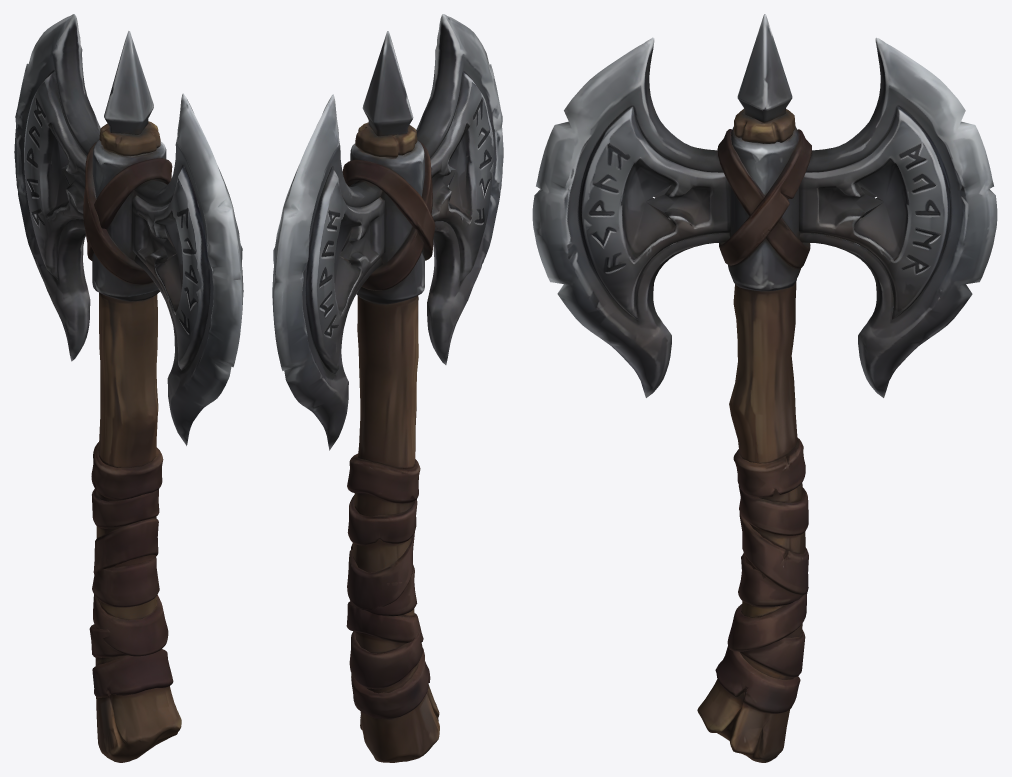
File: 13-axe.glb
3 renders of one model, left to right at view 1: azimuth 30°, elevation 25°; view 2: azimuth 150°, elevation 25°; view 3: azimuth 270°, elevation 25°, orthographic. The views are drawn at different scales.
Visible parts, largest first — view 1: tripo_node_116cdaeb-2088-4908-9fca-0354da7f3242; view 2: tripo_node_116cdaeb-2088-4908-9fca-0354da7f3242; view 3: tripo_node_116cdaeb-2088-4908-9fca-0354da7f3242.
Boxes of the visible parts, box(x1,y1,x2,y2) form: tripo_node_116cdaeb-2088-4908-9fca-0354da7f3242: box(14, 14, 243, 762); tripo_node_116cdaeb-2088-4908-9fca-0354da7f3242: box(272, 14, 503, 762); tripo_node_116cdaeb-2088-4908-9fca-0354da7f3242: box(532, 14, 997, 762).
Size of the model in its own units: 0.1177 by 0.9995 by 0.5659.
Materials: 1 (1 with a texture image).
